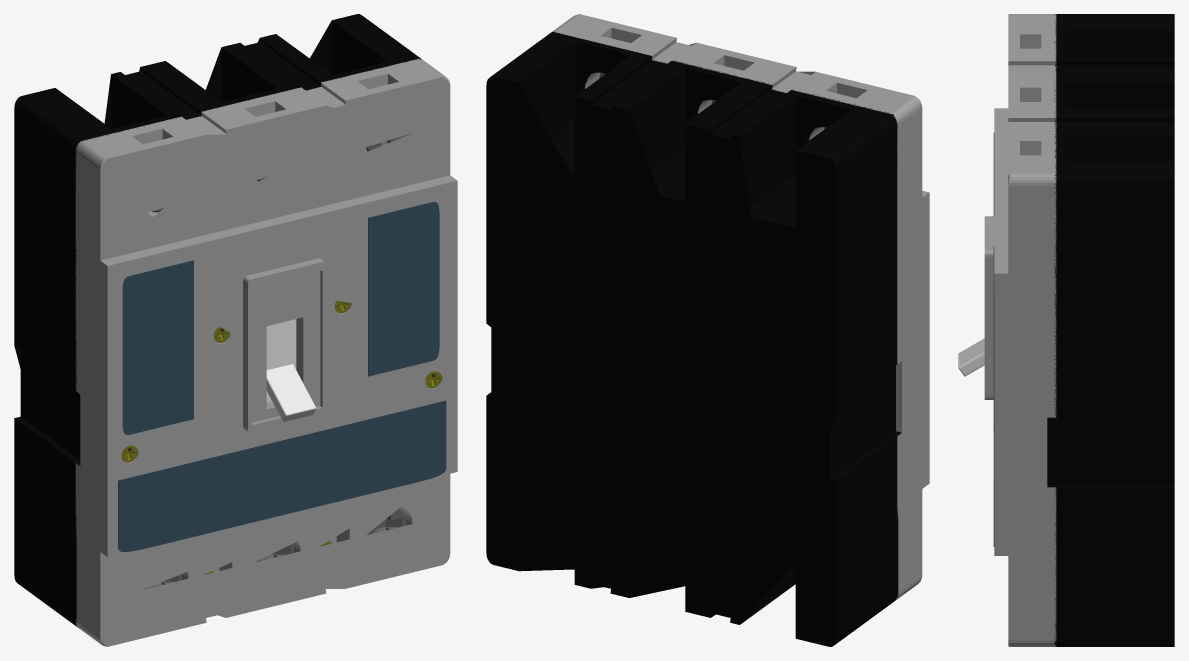
Rendered from 3PCktBreaker.fbx.
The picture shows the model from 3 angles, left to right: view 1: azimuth 30°, elevation 25°; view 2: azimuth 150°, elevation 25°; view 3: azimuth 270°, elevation 25°; orthographic projection. The views are drawn at different scales.
Parts seen in each view (by area): view 1: CktBreaker.001, CktBreaker.002, Cube.002, Cube, Cube.001, Switch, Bolt.005; view 2: CktBreaker.002, CktBreaker.001; view 3: CktBreaker.002, CktBreaker.001, Switch, Cube, CktBreaker.
Boxes of the visible parts, box(x1,y1,x2,y2) form: CktBreaker.001: box(75, 58, 457, 646); CktBreaker.002: box(14, 14, 421, 627); Cube.002: box(118, 400, 446, 551); Cube: box(368, 202, 439, 376); Cube.001: box(122, 260, 193, 434); Switch: box(266, 319, 316, 421); Bolt.005: box(143, 507, 405, 589); CktBreaker.002: box(486, 31, 901, 646); CktBreaker.001: box(551, 14, 929, 600); CktBreaker.002: box(1047, 14, 1174, 646); CktBreaker.001: box(984, 14, 1056, 646); Switch: box(958, 338, 984, 376); Cube: box(993, 246, 994, 430); CktBreaker: box(1056, 14, 1056, 645).
Bounding box in the file's own units: 1500 × 2000 × 830.
